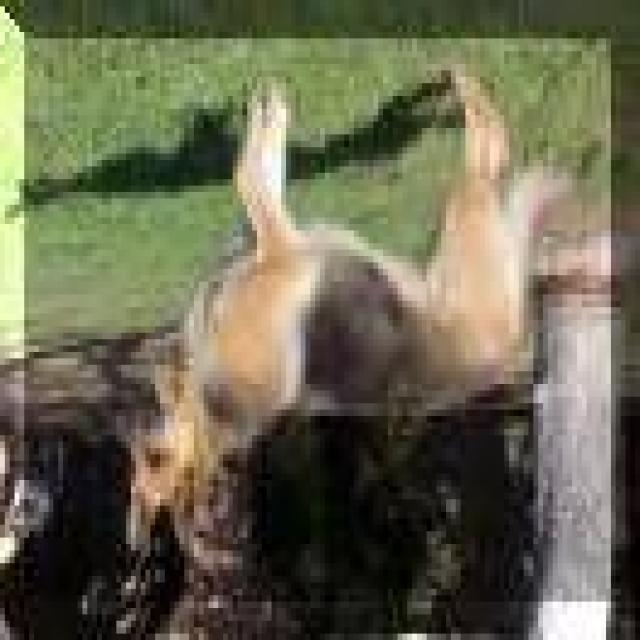dog: (92, 63, 586, 570)
